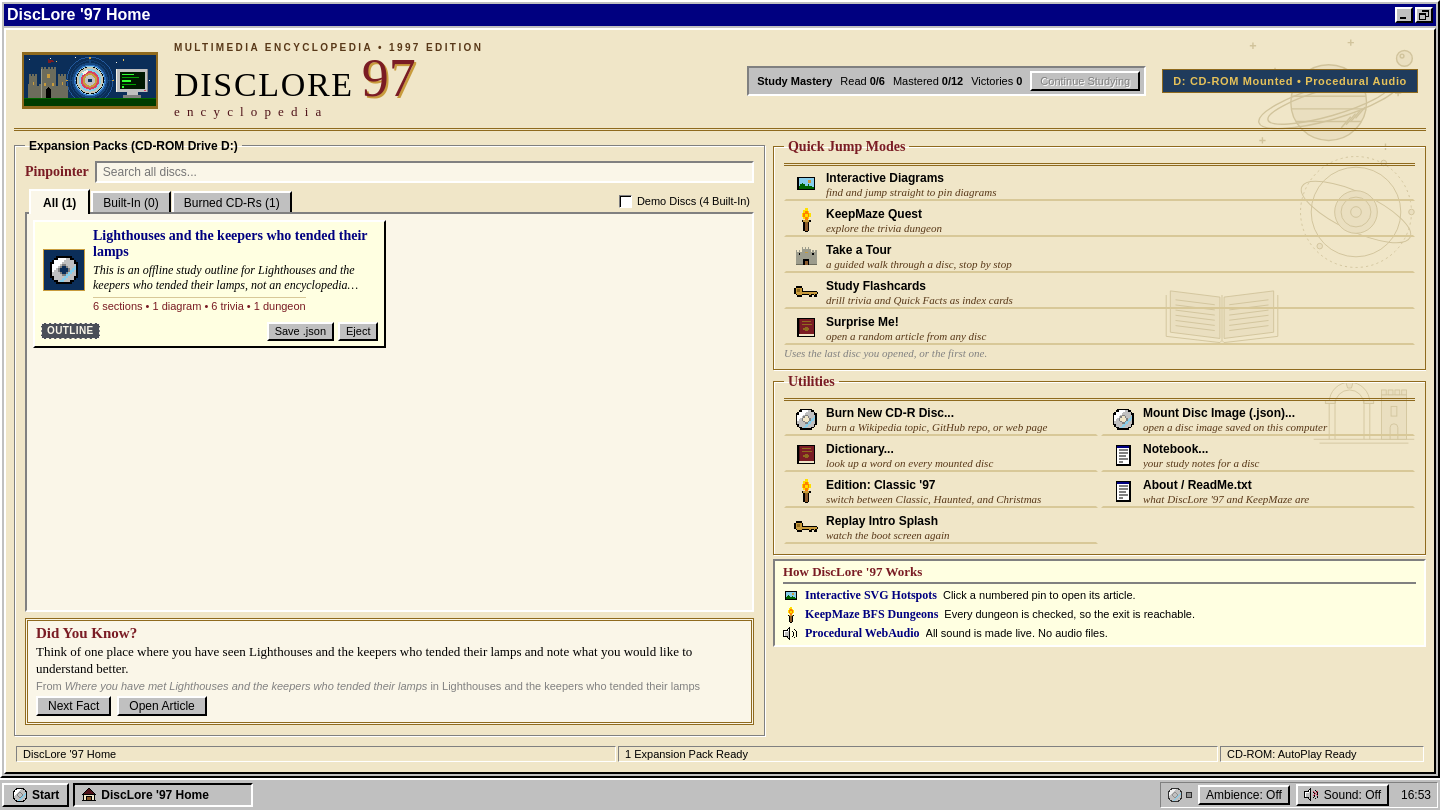
Test case: turning Demo Discs off › takes the built-in discs out of the Dictionary (findMentions over the mounted discs)
Click the button "Dictionary... look up a word on every mounted disc" at (941, 455), box [784,439,1098,472]
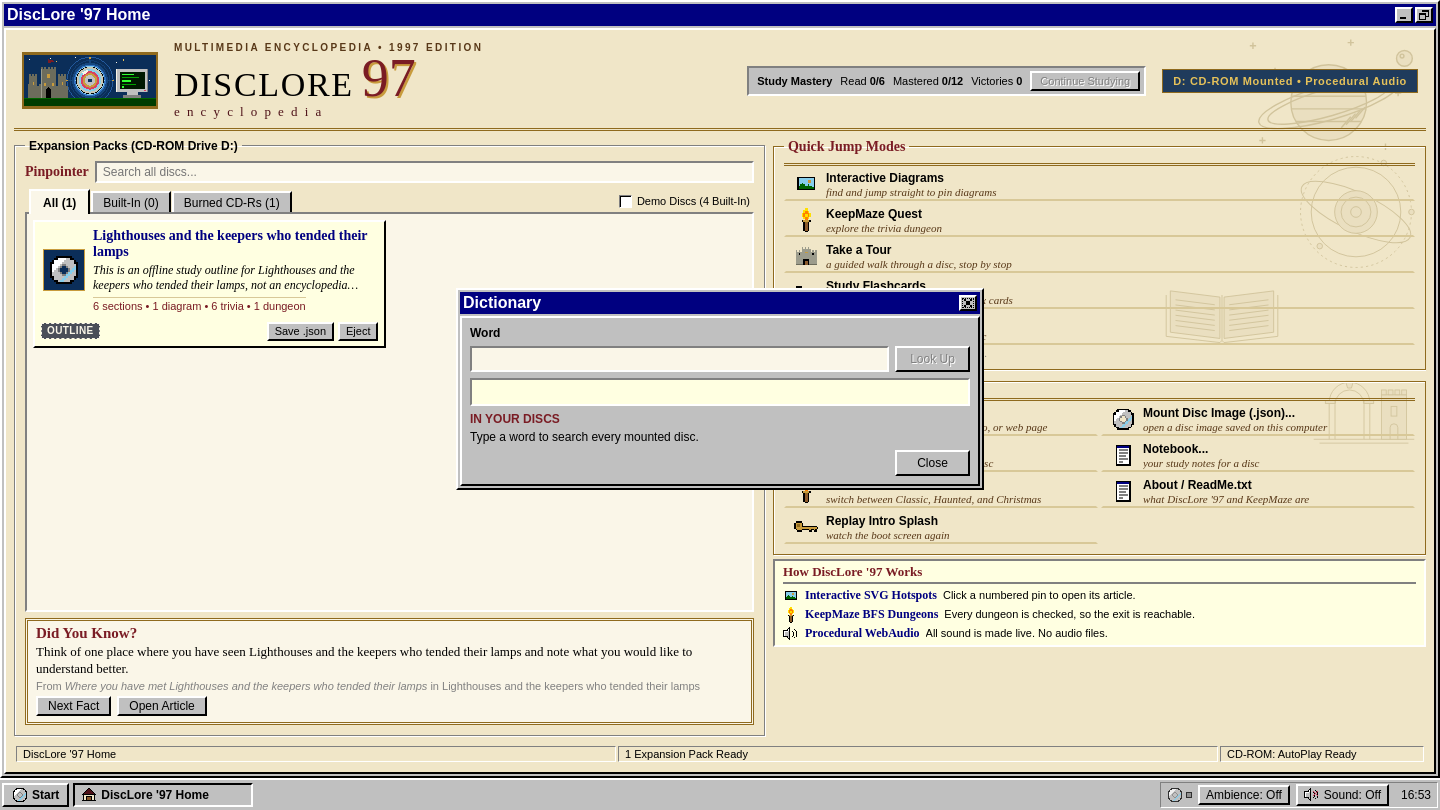
Type "castle" into the field labelled "Word" at (680, 359), box [470,346,889,372]
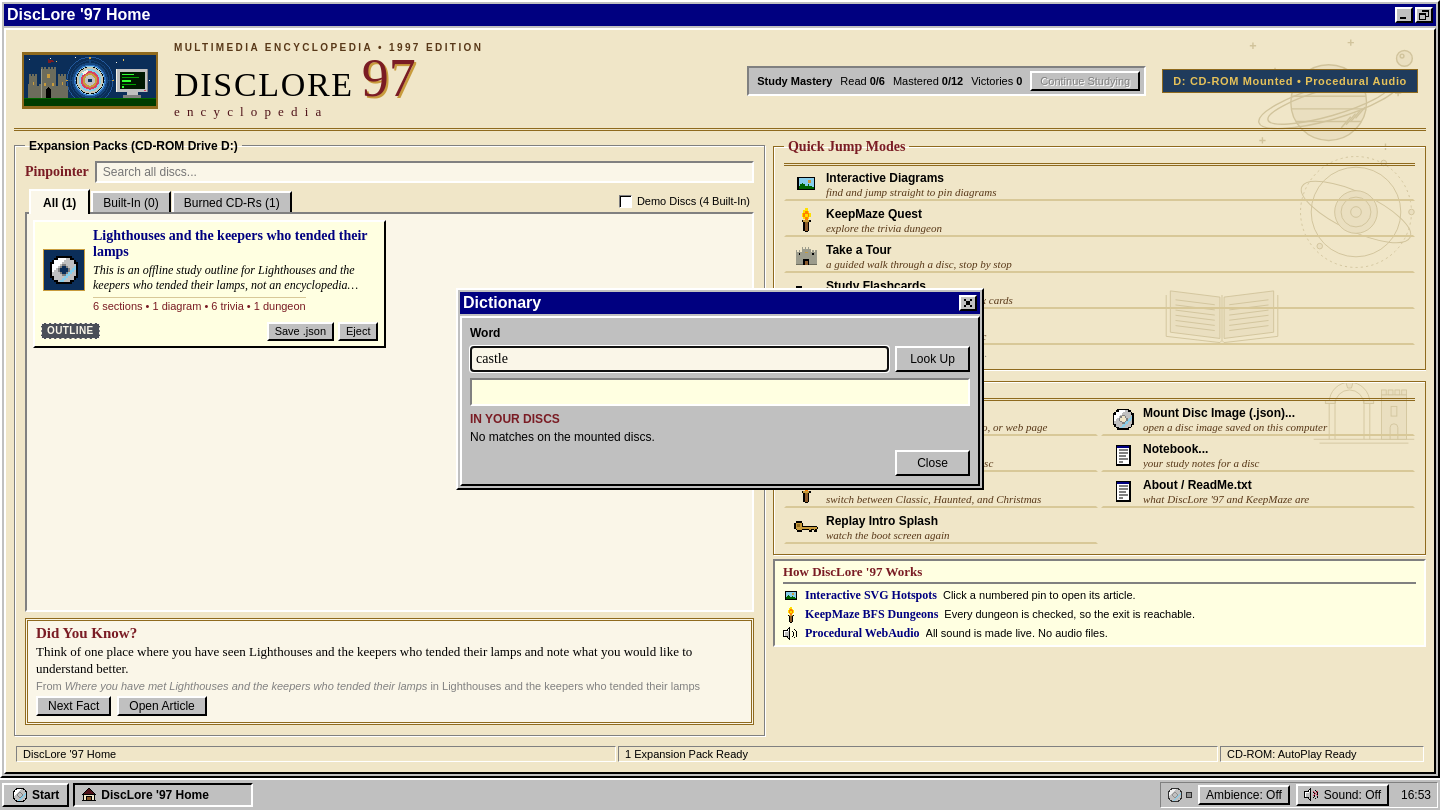
Expected: the element "In your discs" shows "No matches on the mounted discs.", [470,430,655,444]
